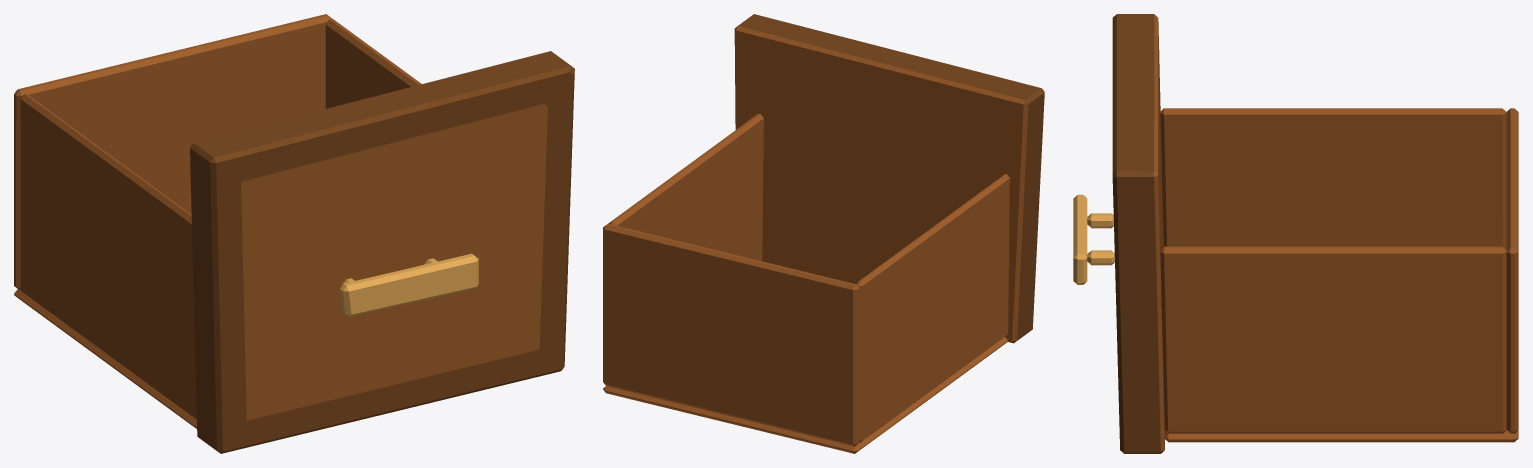
Rendered from Rack_6.fbx.
The picture shows the model from 3 angles, left to right: view 1: azimuth 30°, elevation 25°; view 2: azimuth 150°, elevation 25°; view 3: azimuth 270°, elevation 25°; orthographic projection. The views are drawn at different scales.
Visible parts, largest first — view 1: Rack_6; view 2: Rack_6; view 3: Rack_6.
Boxes of the visible parts, x1,y1,x2,y2 form: Rack_6: (14, 14, 574, 453); Rack_6: (603, 14, 1044, 453); Rack_6: (1073, 14, 1518, 453).
Size of the model in its own units: 0.4049 by 0.3258 by 0.4606.
